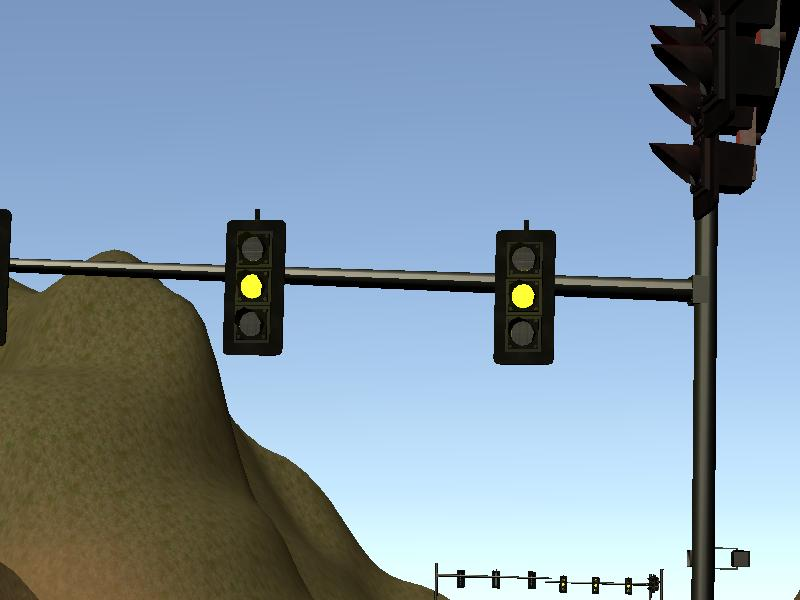not_red: (495, 227, 556, 366), (225, 218, 283, 354)
